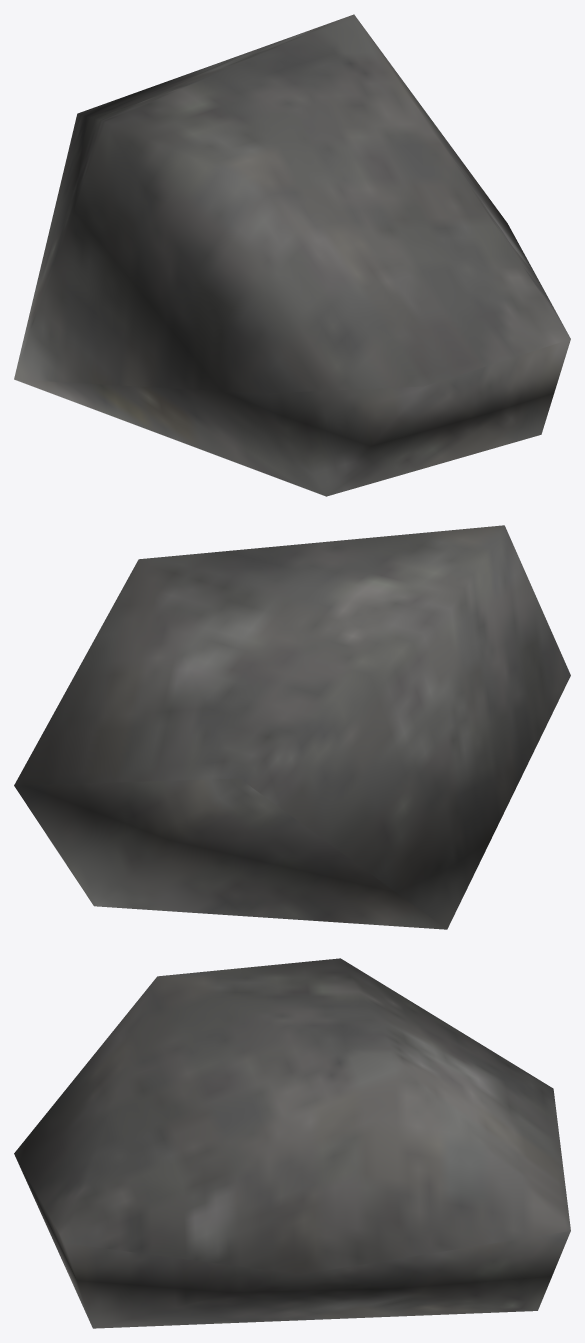
The model's file is objects_un_a_w23rock01_07_l2.gltf.
The picture shows the model from 3 angles, top to bottom: view 1: azimuth 30°, elevation 25°; view 2: azimuth 150°, elevation 25°; view 3: azimuth 270°, elevation 25°; orthographic projection. The views are drawn at different scales.
Visible parts, largest first — view 1: objects_un_a_w23rock01_07_mesh_shape:objects_un_a_w23rock01_; view 2: objects_un_a_w23rock01_07_mesh_shape:objects_un_a_w23rock01_; view 3: objects_un_a_w23rock01_07_mesh_shape:objects_un_a_w23rock01_.
Boxes of the visible parts, <box> form: objects_un_a_w23rock01_07_mesh_shape:objects_un_a_w23rock01_: <box>14,14,570,496</box>; objects_un_a_w23rock01_07_mesh_shape:objects_un_a_w23rock01_: <box>14,525,570,929</box>; objects_un_a_w23rock01_07_mesh_shape:objects_un_a_w23rock01_: <box>14,958,570,1328</box>.
Size of what is drawn, in the model's own units: 0.2031 by 0.1341 by 0.2645.
Materials: 1 (1 with a texture image).
